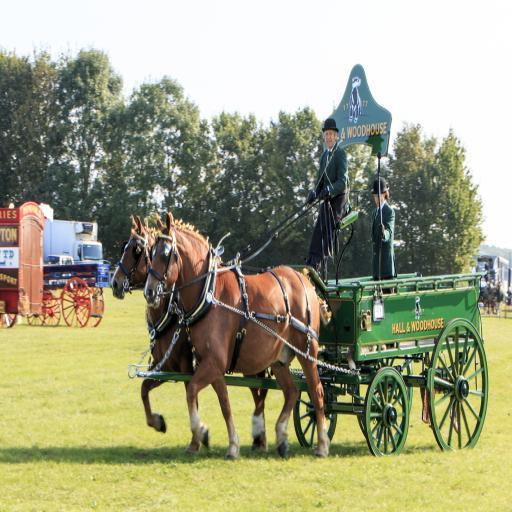horse: (140, 210, 330, 457), (110, 217, 274, 451)
